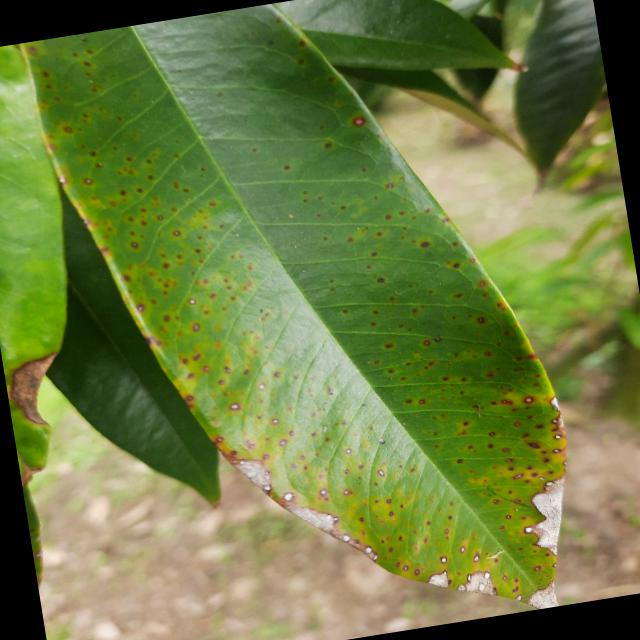Leaf Spot: (17, 0, 595, 639)
